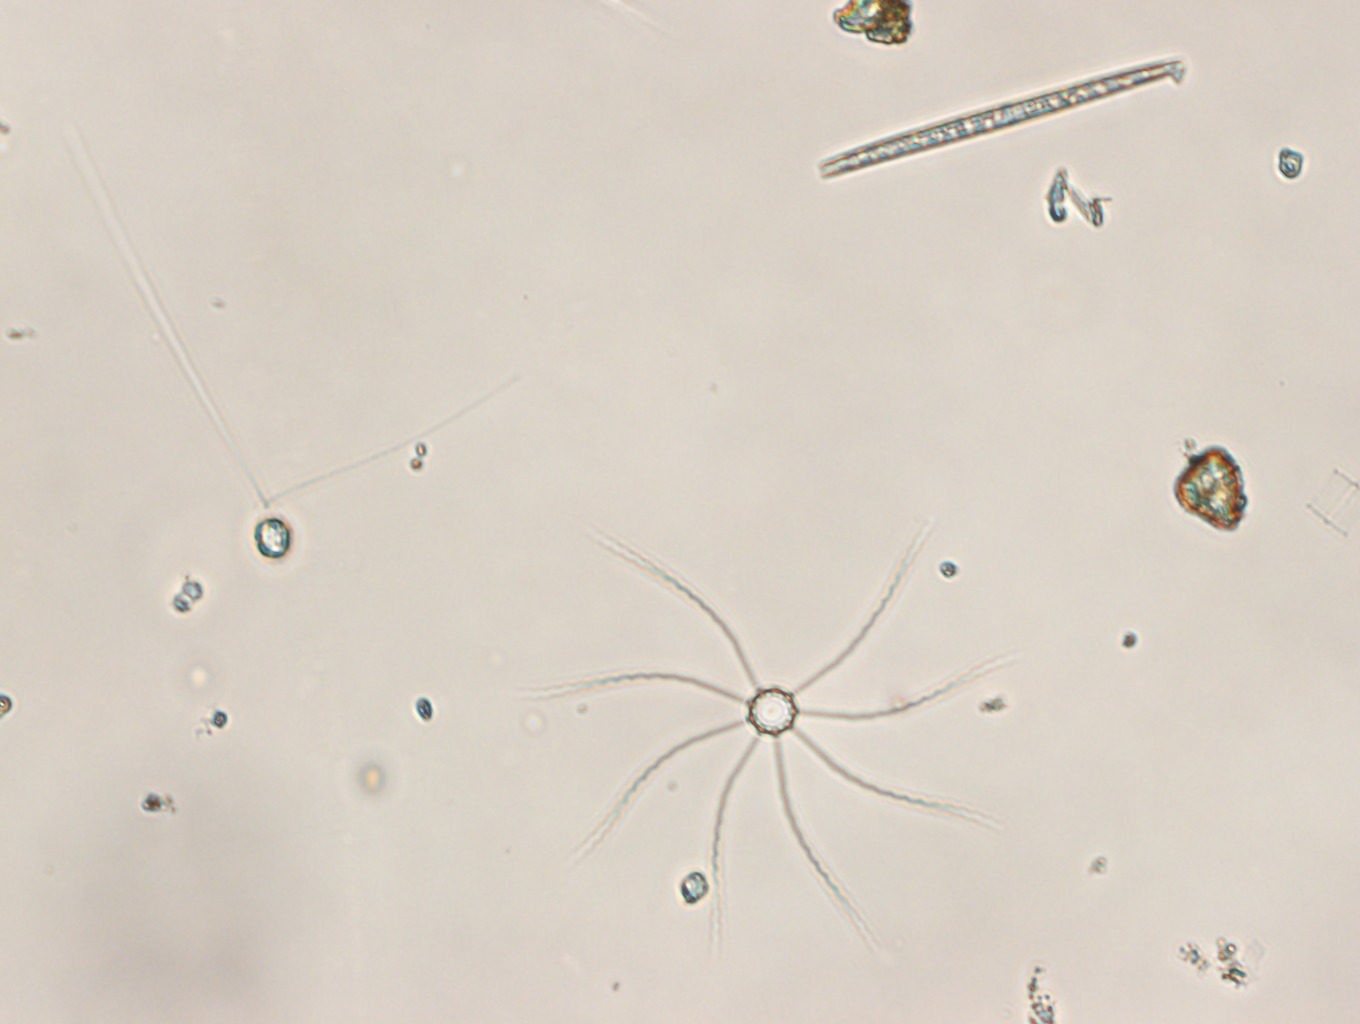bacteriastrum: (519, 494, 1011, 972)
